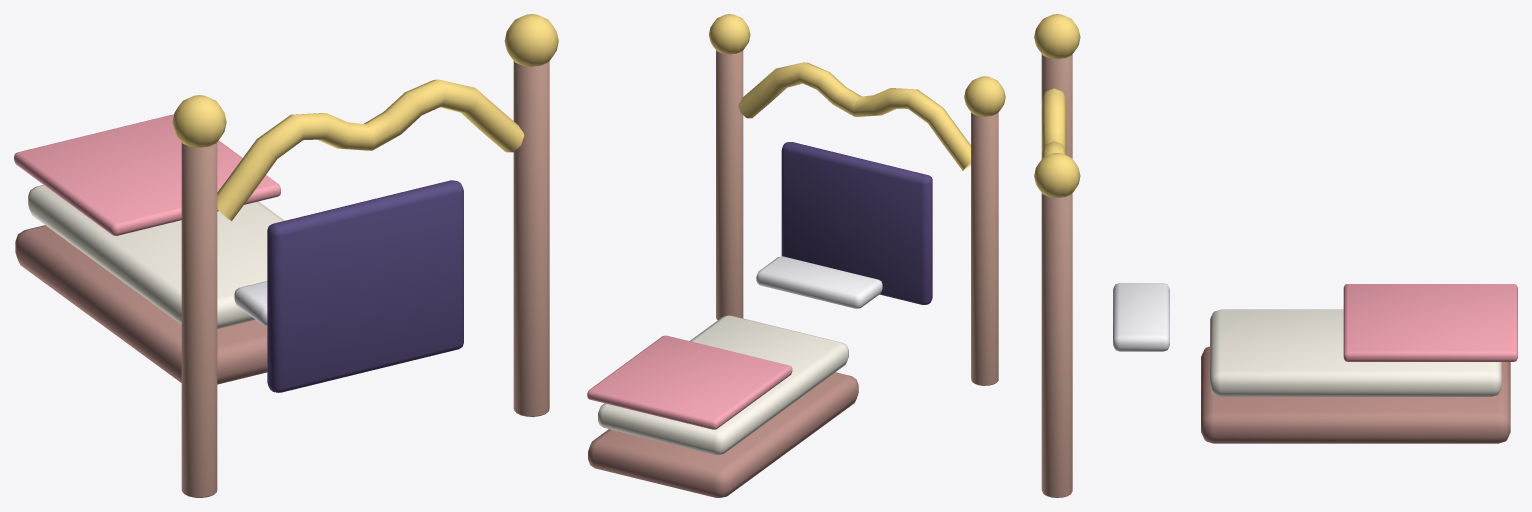
The model's file is dream_bed_0.glb.
3 views of the same model, side by side, from view 1: azimuth 30°, elevation 25°; view 2: azimuth 150°, elevation 25°; view 3: azimuth 270°, elevation 25° (orthographic). The views are drawn at different scales.
Parts seen in each view (by area): view 1: HeadboardInk.001, Blanket.001, Mattress.001, HeadPost_-1.001, HeadPost_1.001, BedFrame.001, HeadboardCrown.001, PostPearl_-1.001, PostPearl_1.001, Pillow.001; view 2: HeadboardInk.001, BedFrame.001, Blanket.001, Mattress.001, HeadPost_-1.001, HeadPost_1.001, HeadboardCrown.001, Pillow.001, PostPearl_-1.001, PostPearl_1.001; view 3: Mattress.001, BedFrame.001, Blanket.001, HeadPost_1.001, Pillow.001, PostPearl_-1.001, PostPearl_1.001, HeadboardCrown.001, HeadPost_-1.001.
Boxes of the visible parts, left/top/right/bottom form: HeadboardInk.001: left=267, top=180, right=463, bottom=392; Blanket.001: left=14, top=114, right=280, bottom=235; Mattress.001: left=28, top=185, right=284, bottom=328; HeadPost_-1.001: left=181, top=142, right=217, bottom=497; HeadPost_1.001: left=513, top=61, right=549, bottom=416; BedFrame.001: left=15, top=225, right=267, bottom=384; HeadboardCrown.001: left=217, top=79, right=524, bottom=220; PostPearl_-1.001: left=172, top=95, right=226, bottom=147; PostPearl_1.001: left=504, top=14, right=558, bottom=66; Pillow.001: left=234, top=281, right=267, bottom=325; HeadboardInk.001: left=781, top=142, right=932, bottom=304; BedFrame.001: left=588, top=372, right=858, bottom=497; Blanket.001: left=587, top=335, right=792, bottom=429; Mattress.001: left=598, top=315, right=848, bottom=454; HeadPost_-1.001: left=971, top=112, right=998, bottom=385; HeadPost_1.001: left=716, top=50, right=743, bottom=319; HeadboardCrown.001: left=738, top=62, right=970, bottom=170; Pillow.001: left=756, top=256, right=882, bottom=308; PostPearl_-1.001: left=964, top=76, right=1005, bottom=116; PostPearl_1.001: left=709, top=14, right=750, bottom=54; Mattress.001: left=1210, top=309, right=1501, bottom=396; BedFrame.001: left=1201, top=346, right=1510, bottom=443; Blanket.001: left=1343, top=284, right=1517, bottom=361; HeadPost_1.001: left=1041, top=193, right=1072, bottom=497; Pillow.001: left=1113, top=283, right=1169, bottom=351; PostPearl_-1.001: left=1034, top=14, right=1080, bottom=59; PostPearl_1.001: left=1034, top=153, right=1080, bottom=197; HeadboardCrown.001: left=1041, top=88, right=1066, bottom=158; HeadPost_-1.001: left=1041, top=54, right=1072, bottom=158.
Size of the model in its own units: 7.26 by 7.2 by 9.37.
